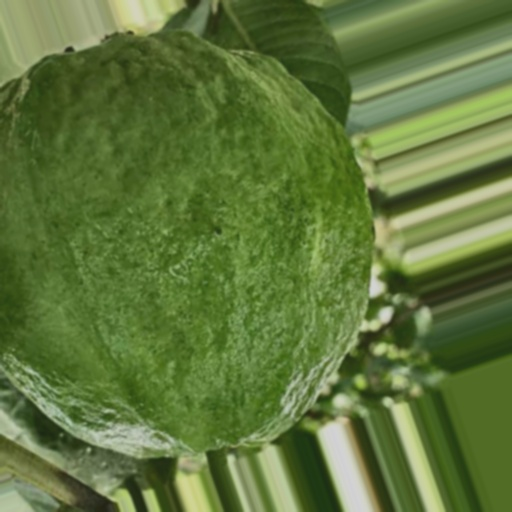guava: (45, 93, 367, 465)
